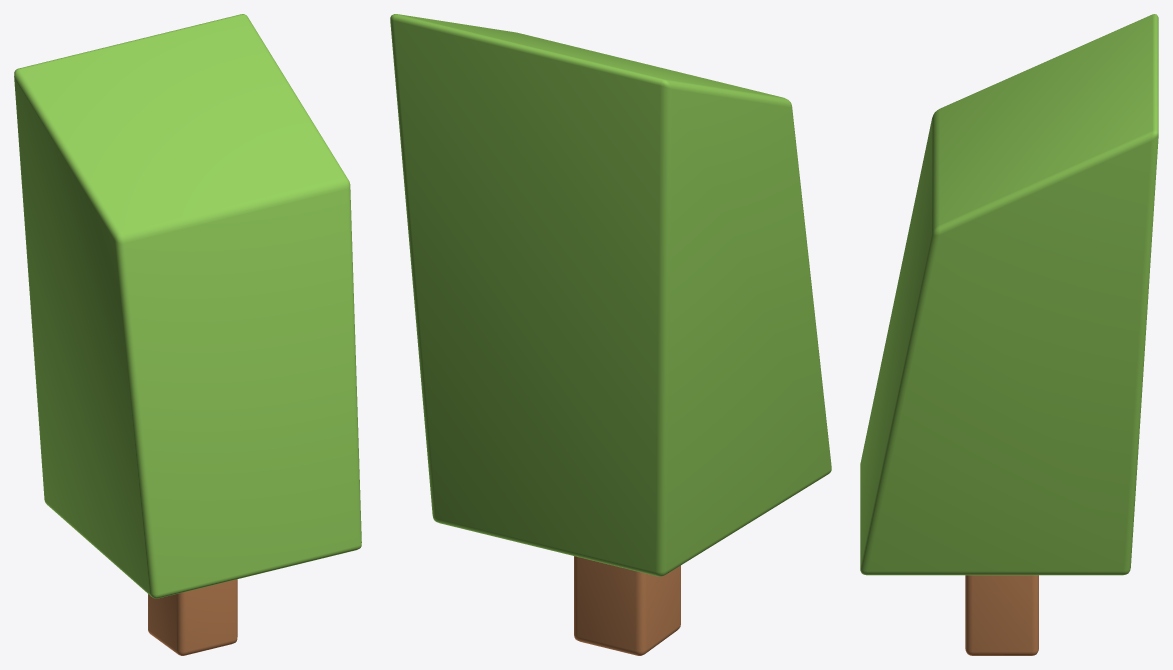
File: Tree.fbx
3 views of the same model, side by side, from view 1: azimuth 30°, elevation 25°; view 2: azimuth 150°, elevation 25°; view 3: azimuth 270°, elevation 25° (orthographic). The views are drawn at different scales.
Visible parts, largest first — view 1: Куб_3; view 2: Куб_3; view 3: Куб_3.
Part boxes in pixels (bbox=[...]): Куб_3: bbox=[14, 14, 361, 655]; Куб_3: bbox=[390, 14, 831, 655]; Куб_3: bbox=[860, 14, 1158, 655].
Bounding box in the file's own units: 39.05 × 86.22 × 40.53.
